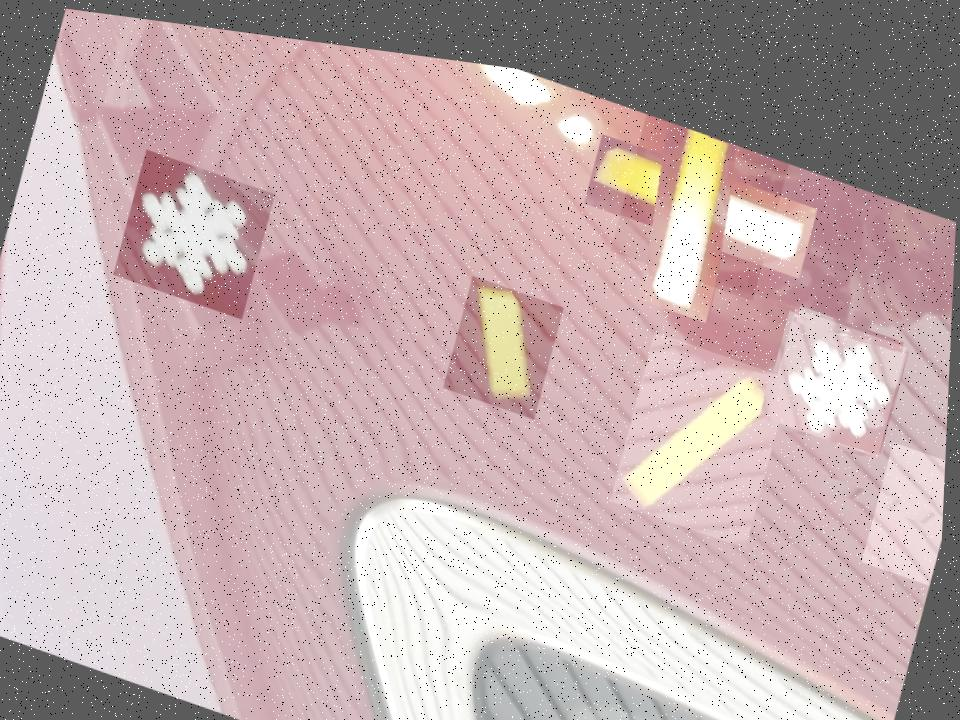dent: (115, 142, 277, 315), (767, 282, 909, 433)
scratch: (612, 308, 794, 529), (611, 93, 791, 282), (445, 259, 566, 406), (865, 414, 949, 560)
